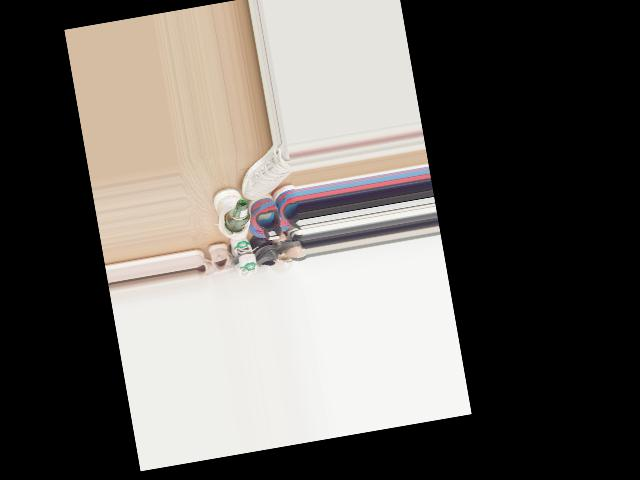beer: (221, 197, 252, 233)
